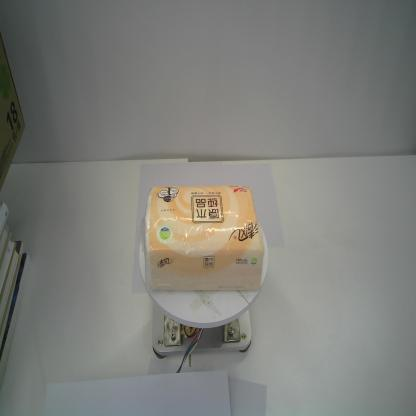Tissue: (143, 185, 264, 292)
